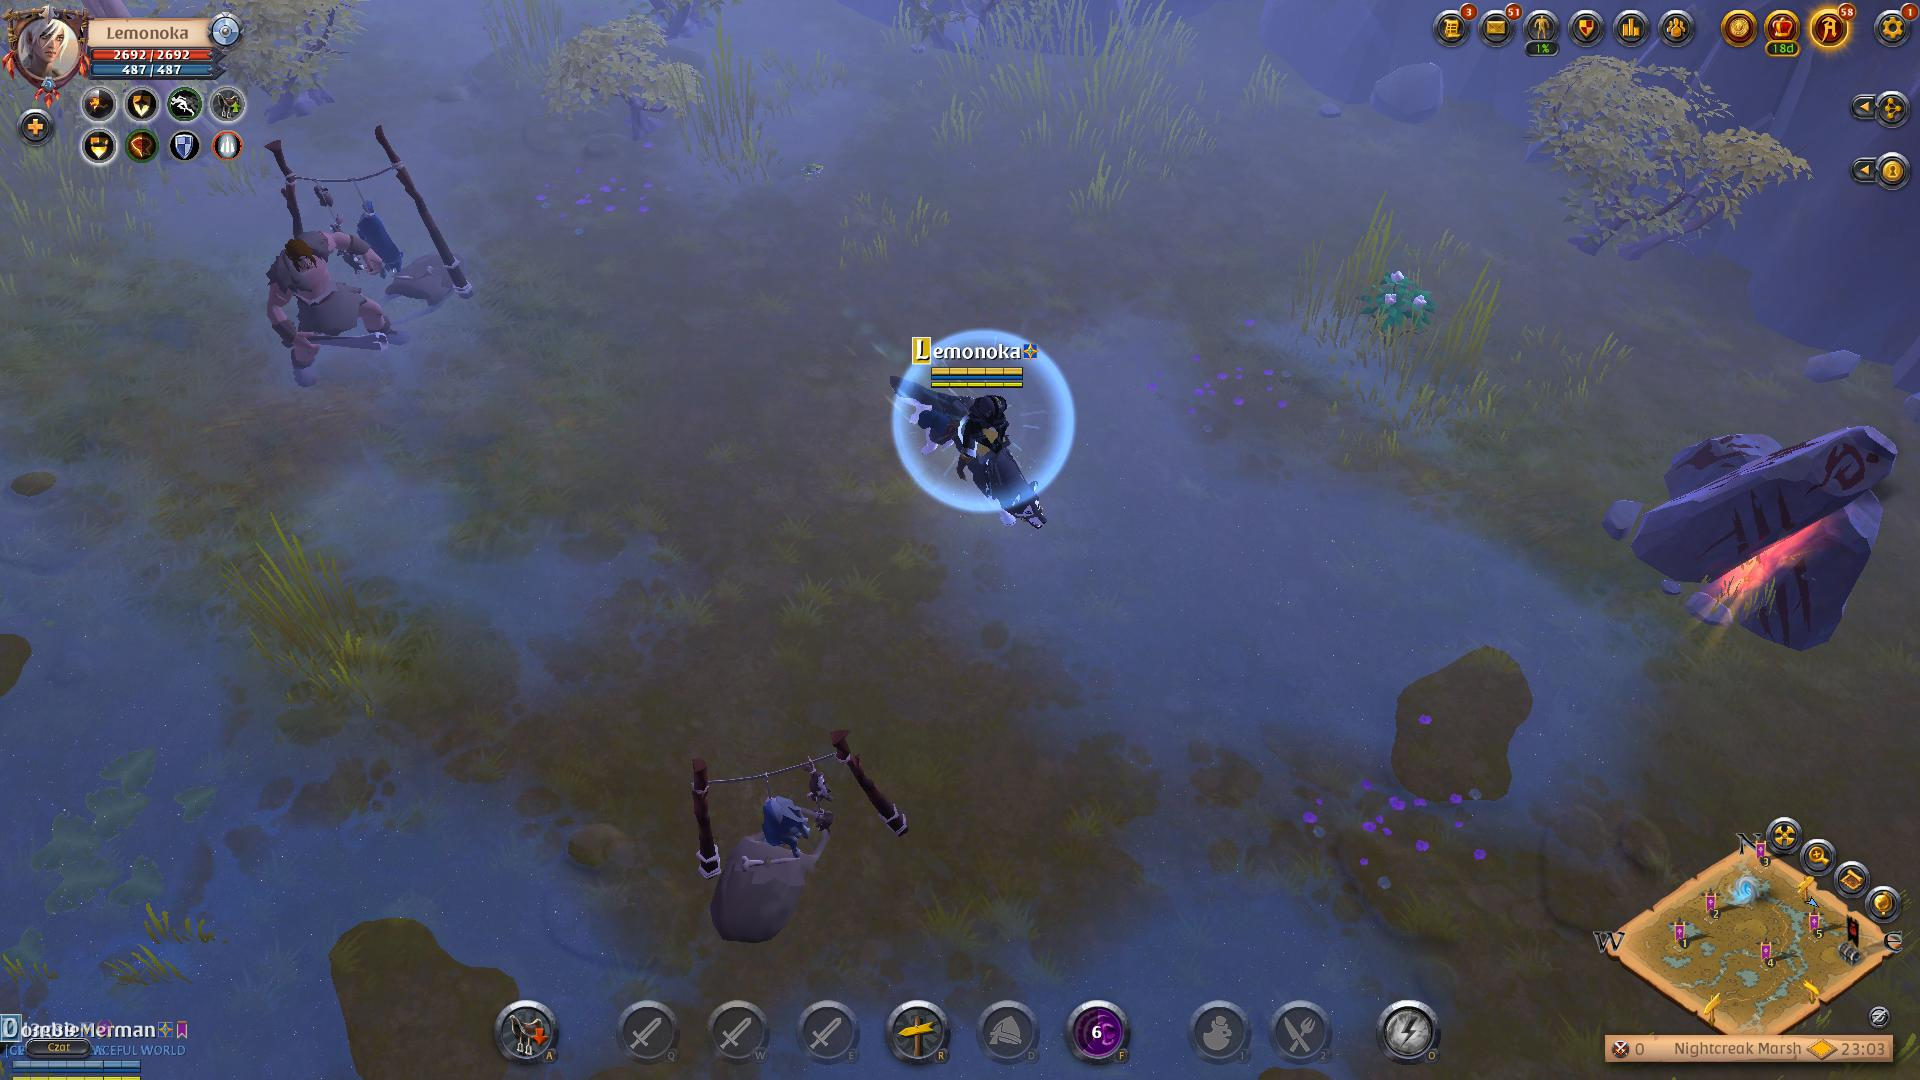fiber tier 3: (1357, 265, 1440, 345)
